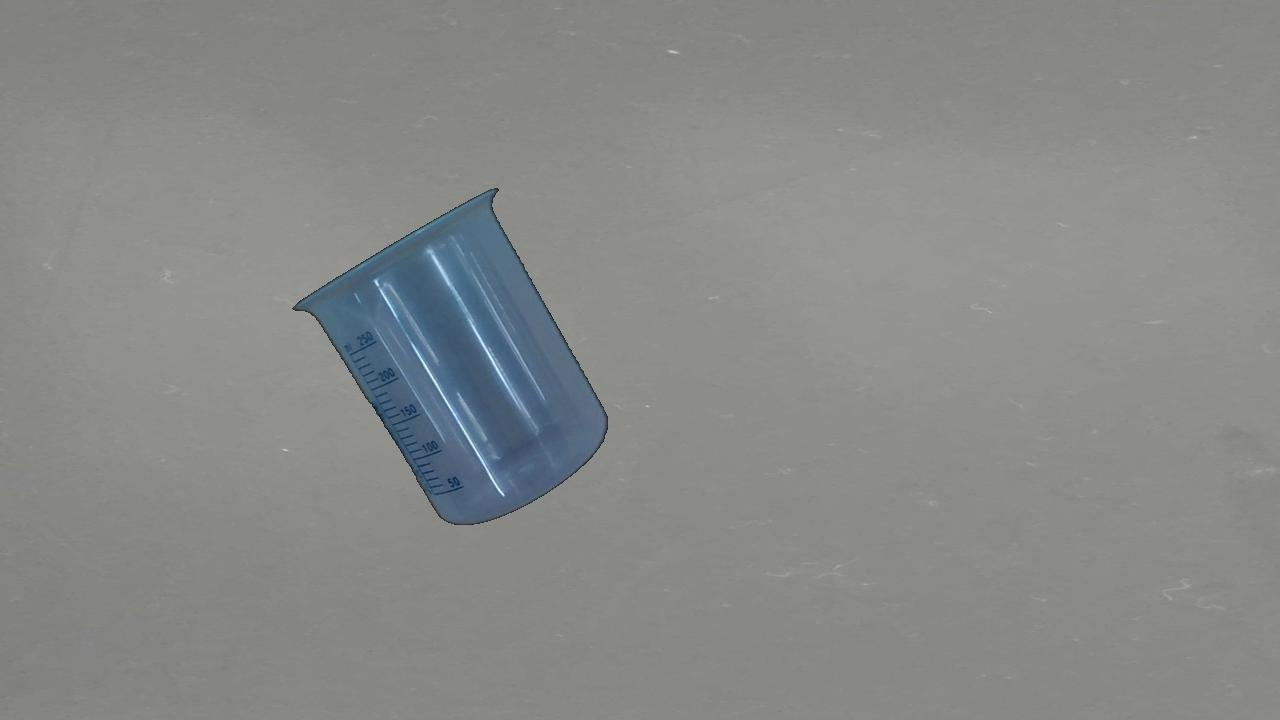becker: (291, 186, 611, 529)
